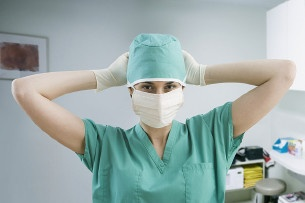Mask: (130, 77, 180, 127)
